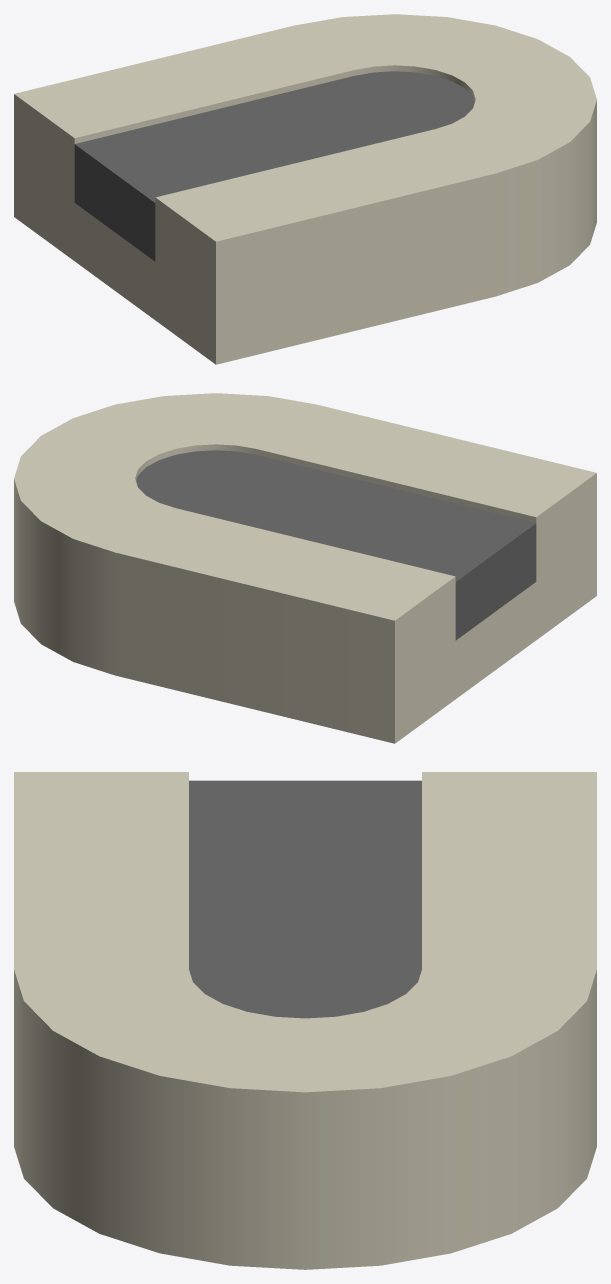
Rendered from tile120.obj.
3 renders of one model, top to bottom at view 1: azimuth 30°, elevation 25°; view 2: azimuth 150°, elevation 25°; view 3: azimuth 270°, elevation 25°, orthographic. The views are drawn at different scales.
Parts seen in each view (by area): view 1: tile120; view 2: tile120; view 3: tile120.
Part boxes in pixels (x1,y1,x2,y2): tile120: (14,14,596,364); tile120: (14,393,596,743); tile120: (14,772,596,1269).
Size of the model in its own units: 0.8125 by 0.21 by 0.625.
